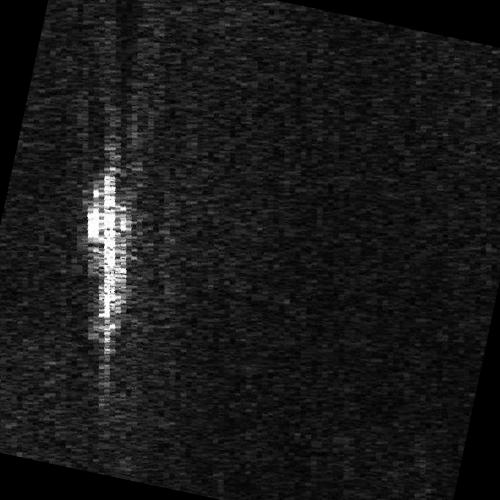ship: (85, 169, 130, 359)
